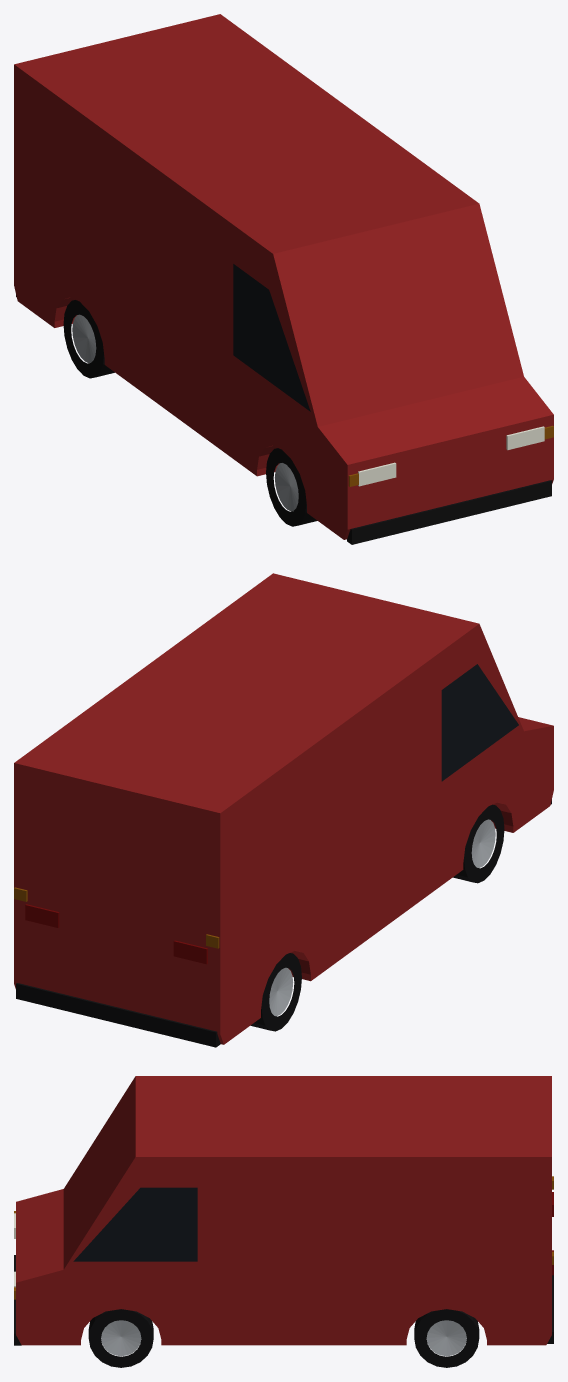
The model's file is body.glb.
The picture shows the model from 3 angles, top to bottom: view 1: azimuth 30°, elevation 25°; view 2: azimuth 150°, elevation 25°; view 3: azimuth 270°, elevation 25°; orthographic projection. The views are drawn at different scales.
Visible parts, largest first — view 1: shell, glass, trim, wheel_RR, wheel_RF; view 2: shell, glass, trim, wheel_RF, wheel_RR, taillight_L, taillight_R; view 3: shell, glass, wheel_LF, wheel_LR.
Boxes of the visible parts, bbox=[...] form: shell: bbox=[14, 14, 553, 539]; glass: bbox=[233, 264, 310, 411]; trim: bbox=[16, 295, 551, 544]; wheel_RR: bbox=[63, 300, 114, 378]; wheel_RF: bbox=[266, 448, 317, 526]; shell: bbox=[14, 573, 553, 1044]; glass: bbox=[441, 664, 518, 781]; trim: bbox=[16, 799, 551, 1047]; wheel_RF: bbox=[453, 804, 504, 883]; wheel_RR: bbox=[250, 953, 301, 1031]; taillight_L: bbox=[25, 904, 59, 927]; taillight_R: bbox=[173, 940, 207, 964]; shell: bbox=[16, 1076, 551, 1345]; glass: bbox=[73, 1187, 197, 1261]; wheel_LF: bbox=[88, 1309, 153, 1367]; wheel_LR: bbox=[414, 1309, 479, 1367].
Size of the model in its own units: 2.02 by 2.45 by 5.64.
